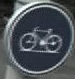bike lane: (6, 2, 70, 68)
